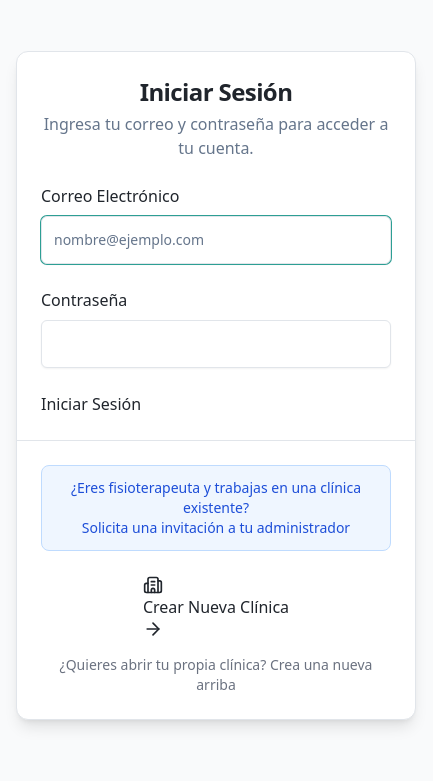
Login Component › shows error message on failed auth
In the field labelled "Correo Electrónico": coordinates (216, 240) [41,216,391,264], type "test@example.com"
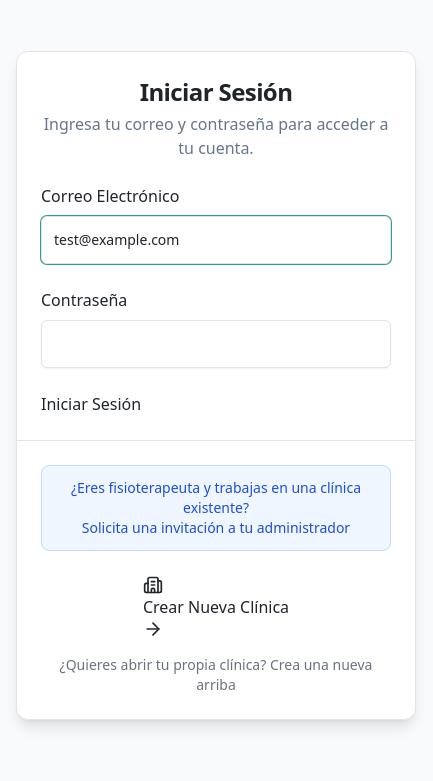
In the password field labelled "Contraseña": coordinates (216, 344) [41,320,391,368], type "wrong"
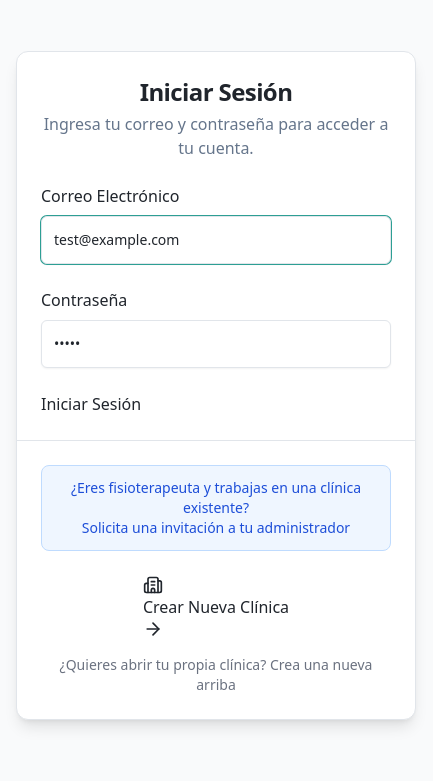
Click the button "Iniciar Sesión": coordinates (91, 404) [41,392,141,416]
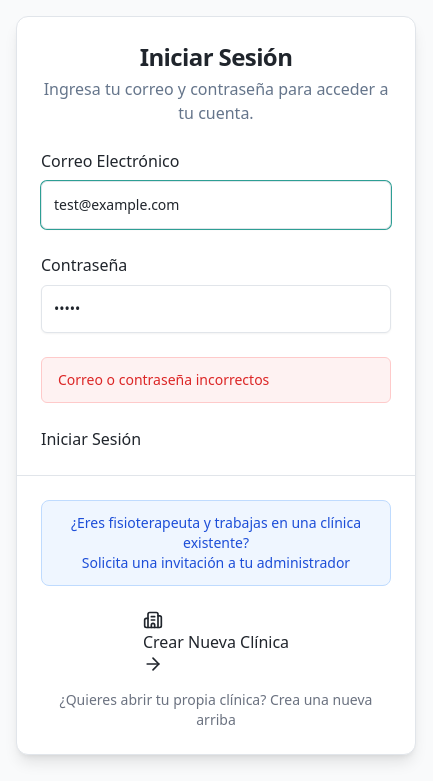
Expected: the text "Correo o contraseña incorrectos" is shown, [41,356,391,402]
